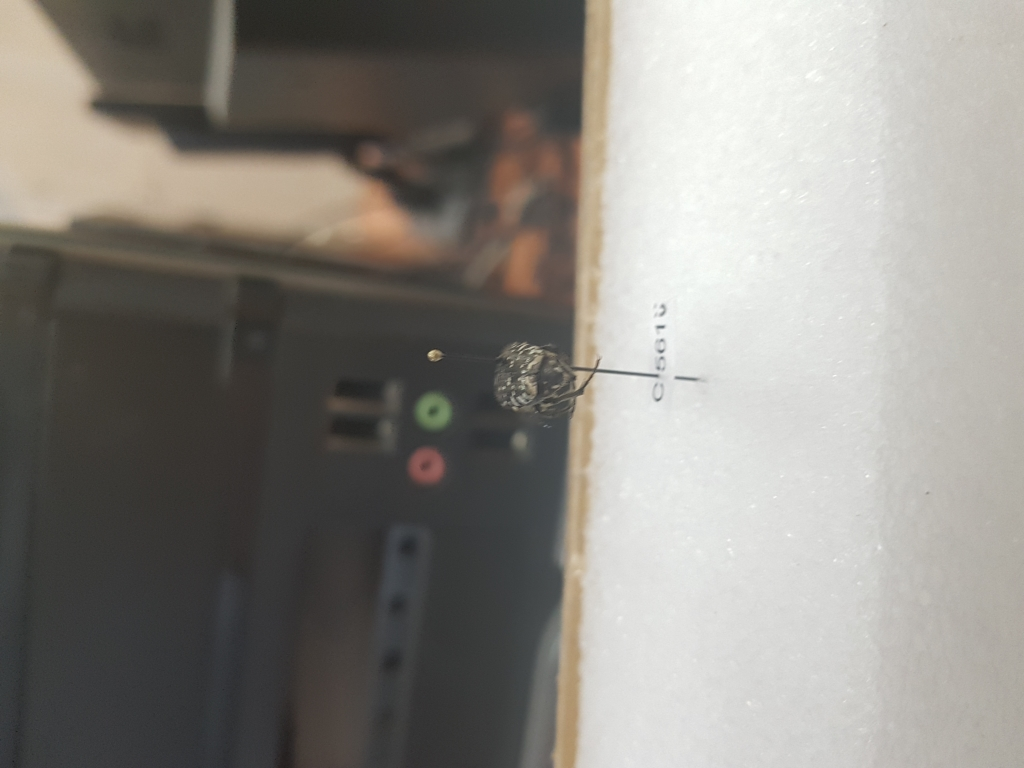Oxythyrea_funesta: (492, 337, 608, 423)
